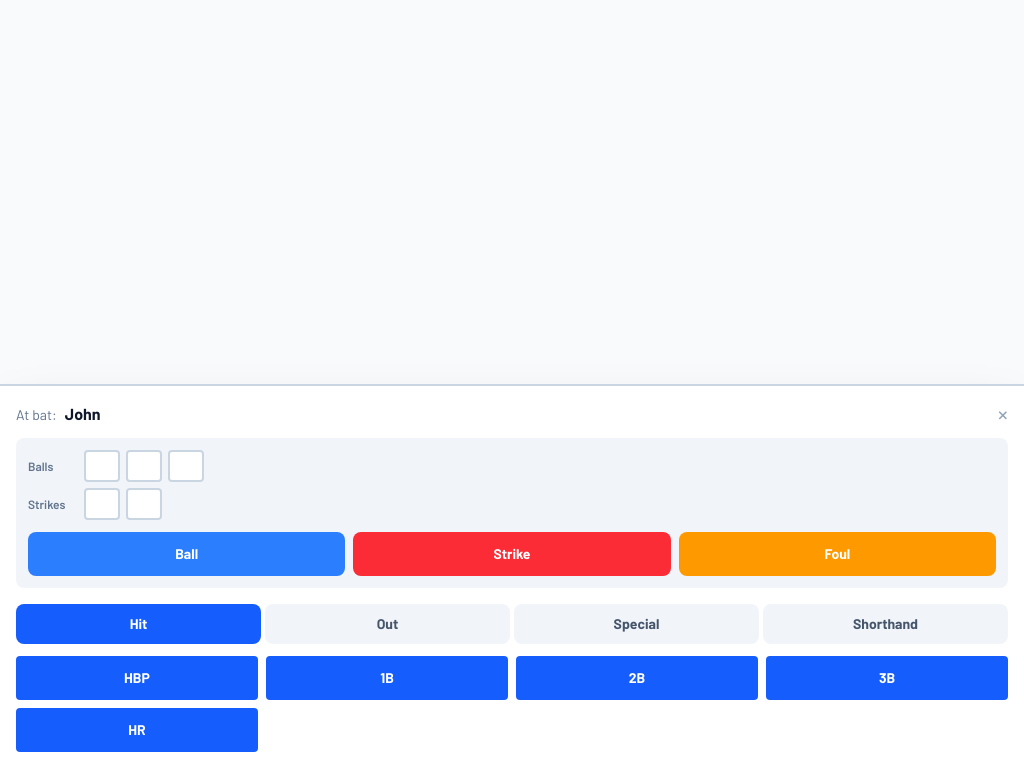
PlayEntryPanel › should show field diagram when fielding play selected
Note: Switch to Out tab first
What coordinates should you click on to do the following:
click the button "Out"
I would click on:
 (388, 624)
Its box is [265,604,510,644].
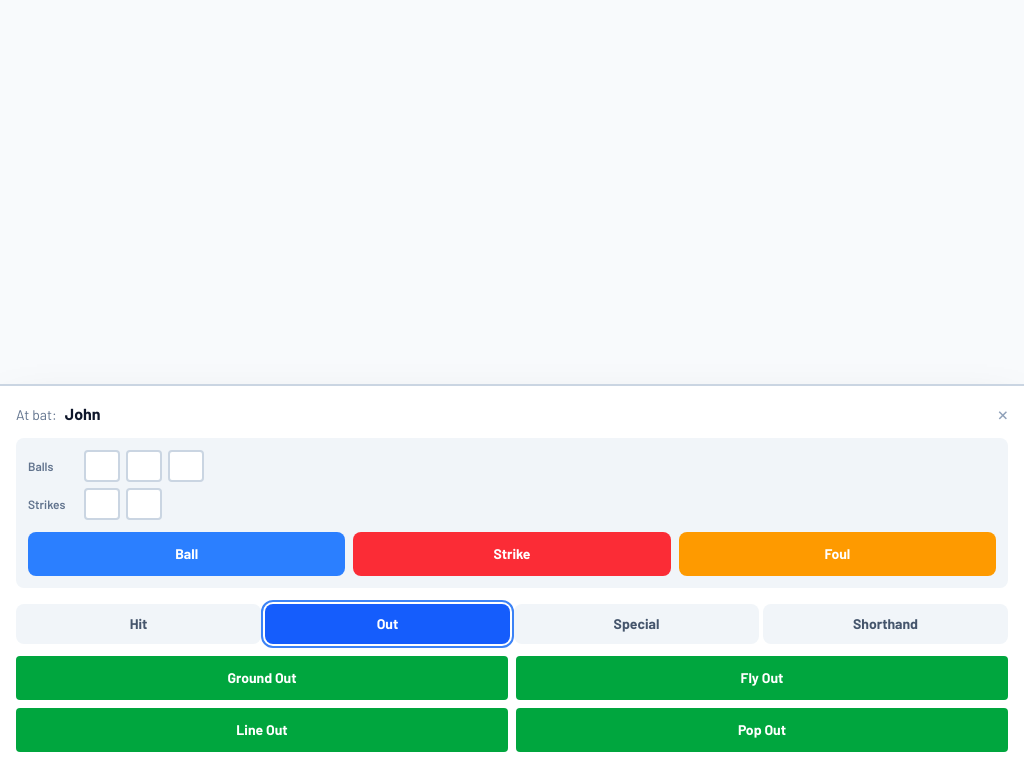
What coordinates should you click on to do the following:
click the button "Ground Out"
I would click on:
 (262, 678)
Its box is [16,656,508,700].
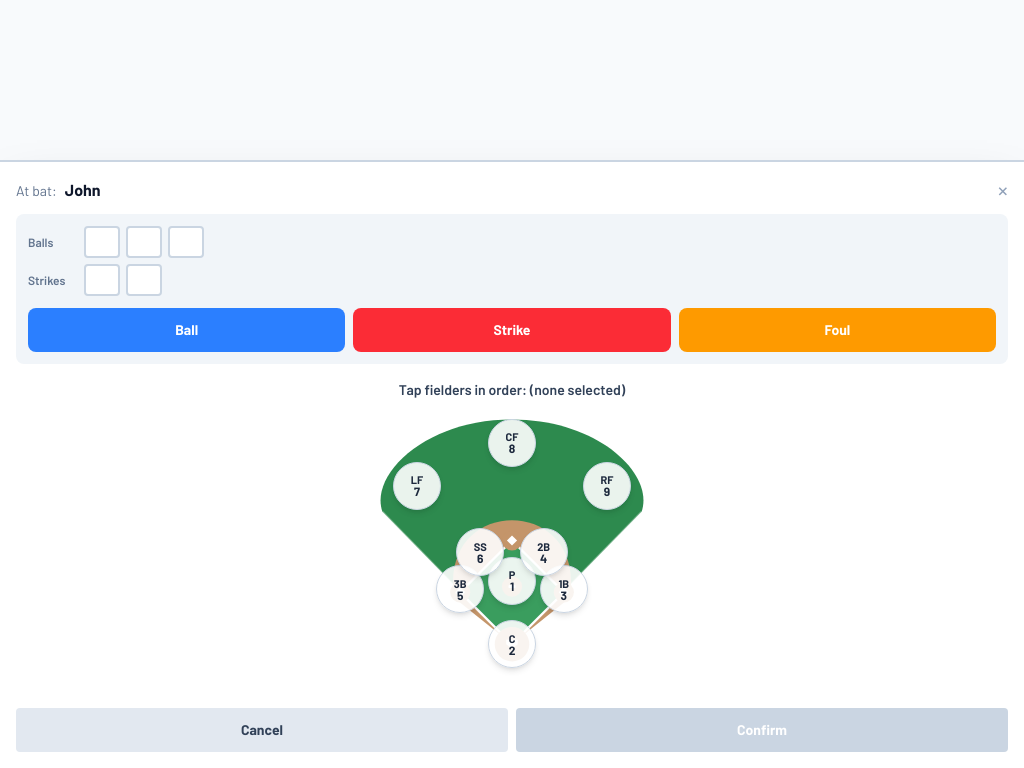
Now the button "SS 6" is shown, box [456,528,504,576]
